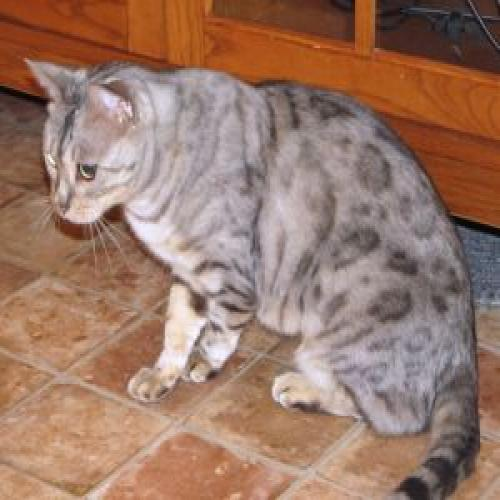cat-face: (16, 55, 152, 232)
